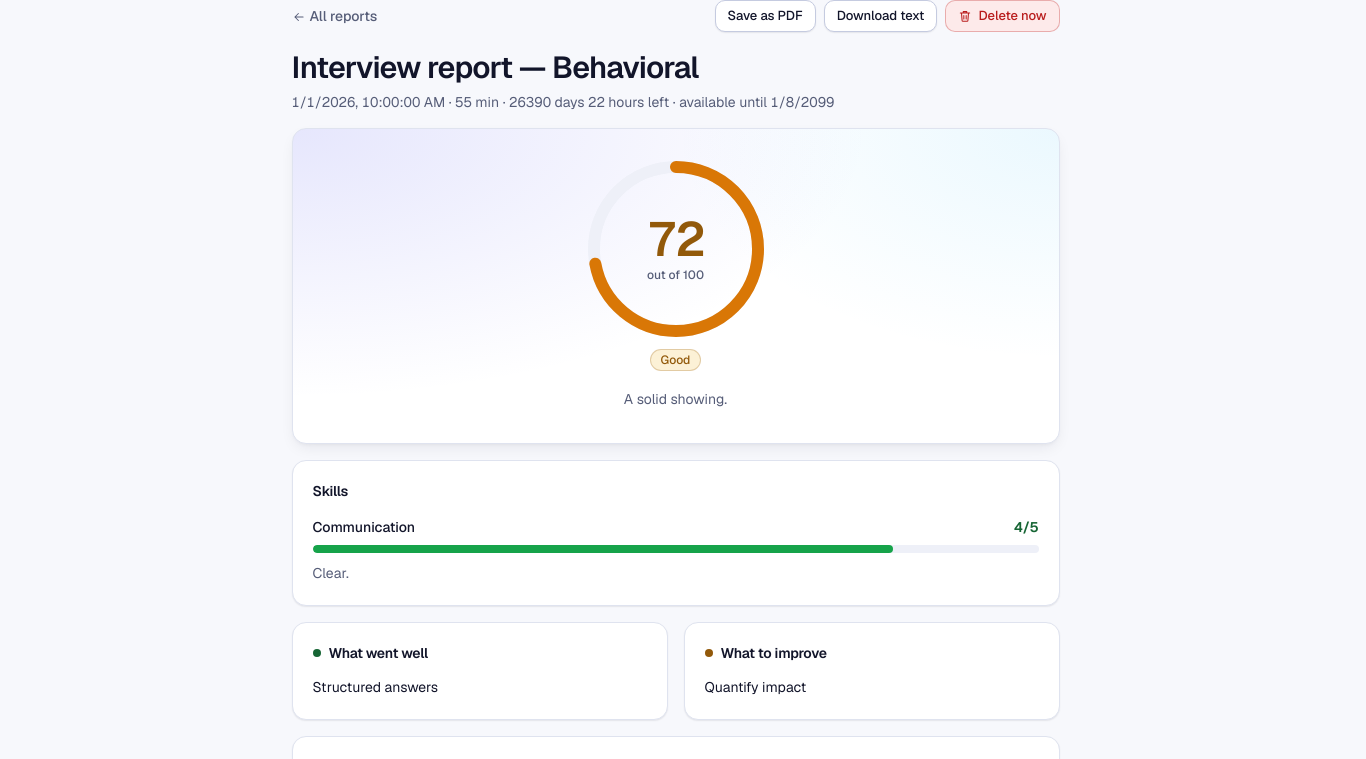
Test: ReportDetailView › keeps the report on screen when the delete fails
Click the button "Delete now" at (1002, 16), box [945,0,1060,32]
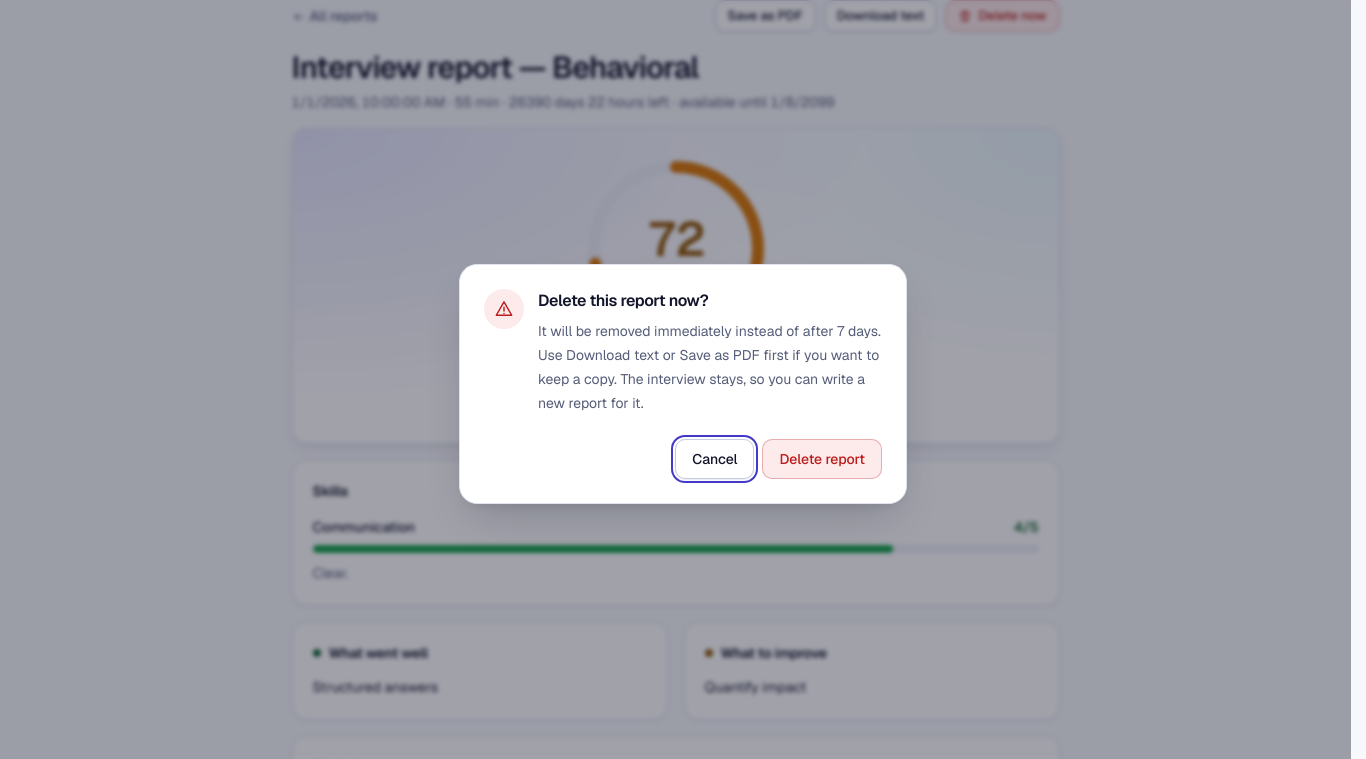
Click the button "Delete report" at (822, 459), box [762,439,882,479]
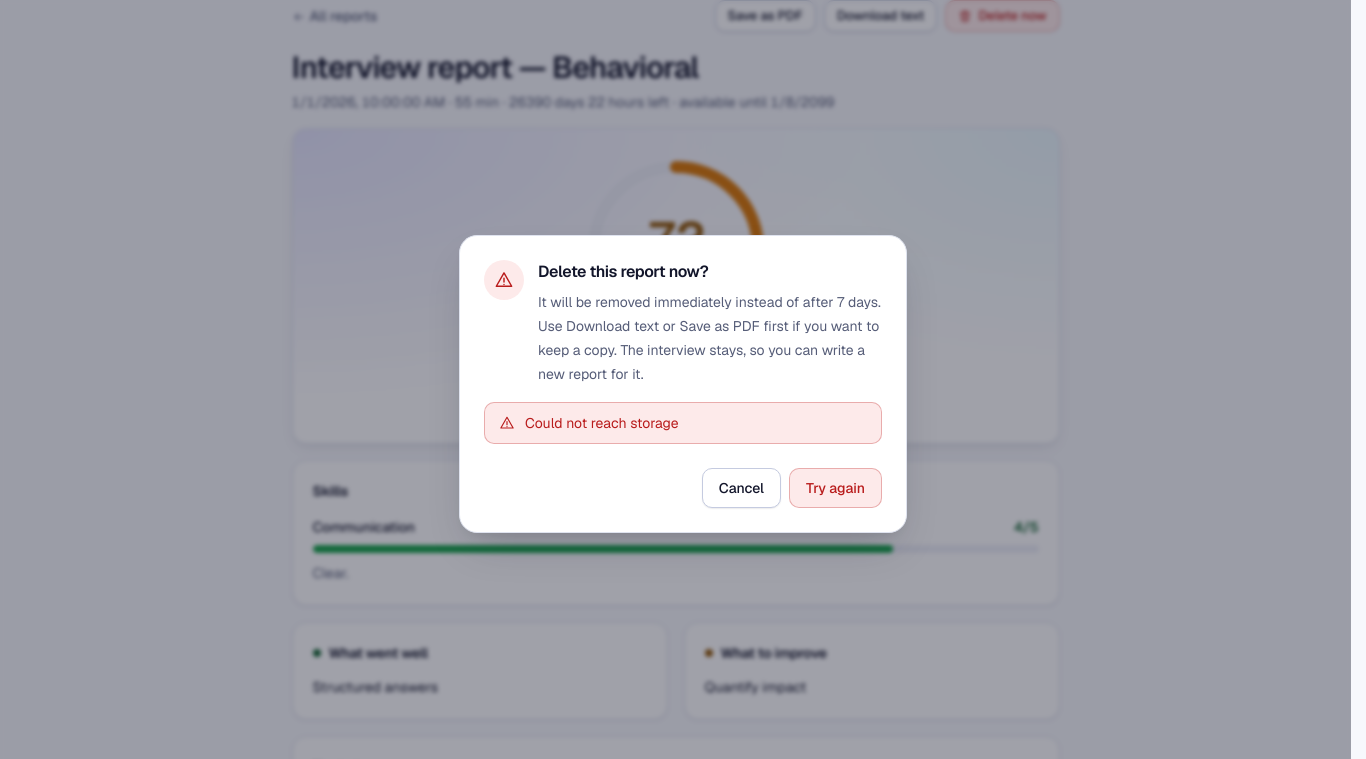
Check: the text "A solid showing." is shown, box [624,387,727,411]
Check: the message reads "Could not reach storage", box [525,414,678,432]
